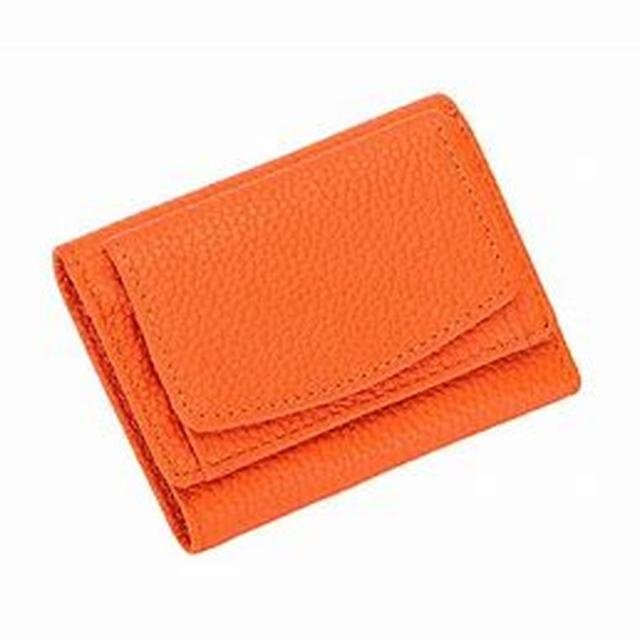wallet: (62, 79, 562, 572)
